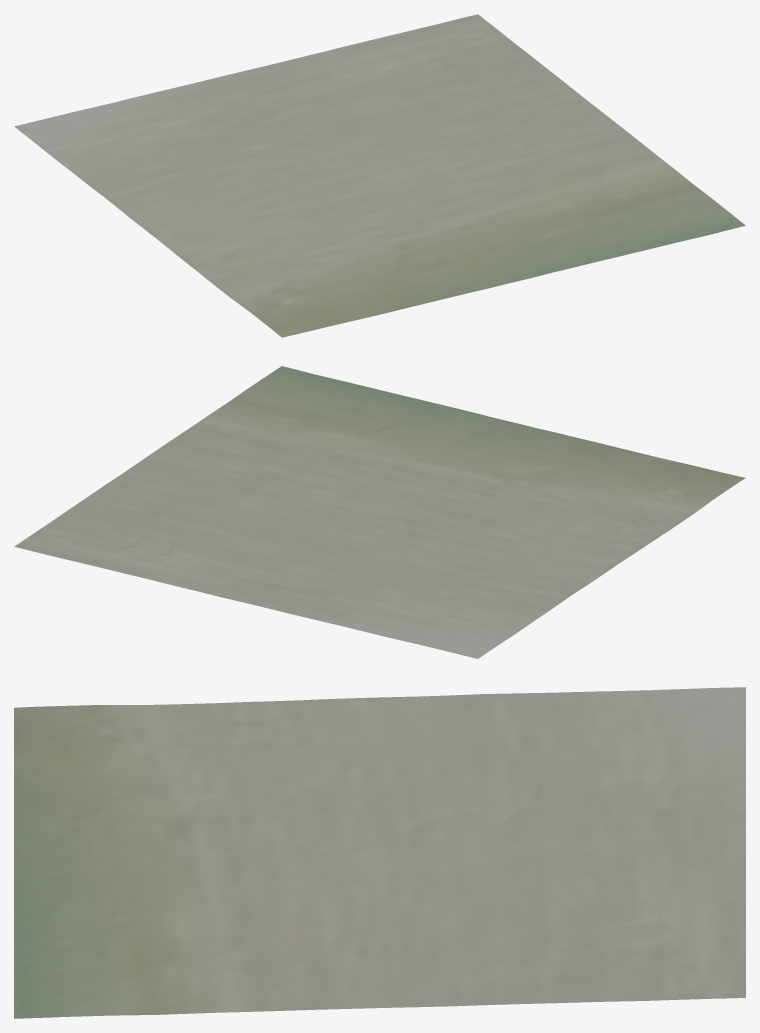
The picture shows the model from 3 angles, top to bottom: view 1: azimuth 30°, elevation 25°; view 2: azimuth 150°, elevation 25°; view 3: azimuth 270°, elevation 25°; orthographic projection. The views are drawn at different scales.
Bounding box in the file's own units: 52.22 × 1.8 × 52.22.
2 materials, 2 textured.
